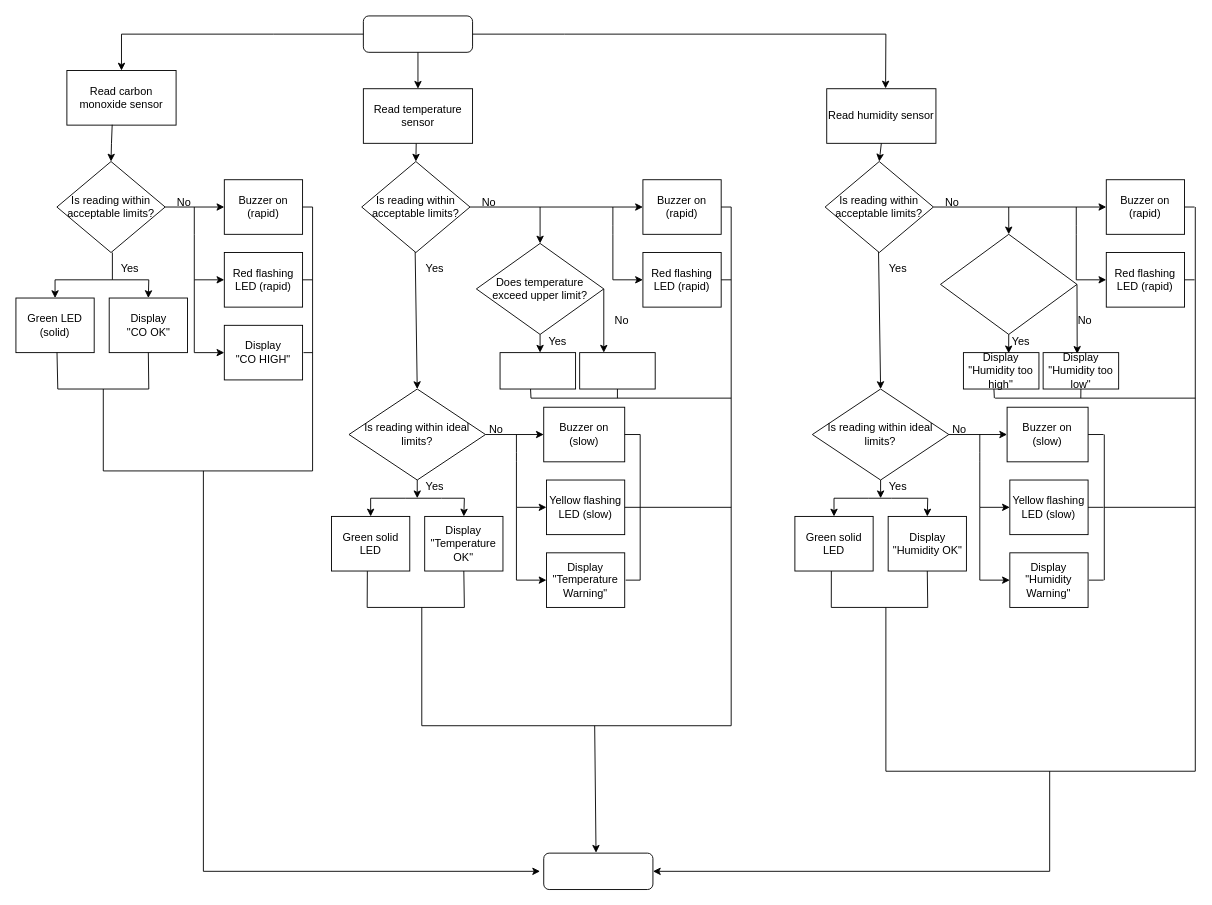
This 1212x905 diagram has some shape labels left out. Each missing label, with the box of its shape:
Display "Temperature too high": (499, 352, 576, 389)
Display "Temperature too low": (579, 352, 655, 389)
Does humidity exceed upper limit?: (940, 233, 1077, 334)
End: (543, 852, 653, 890)
Start: (362, 15, 473, 52)
